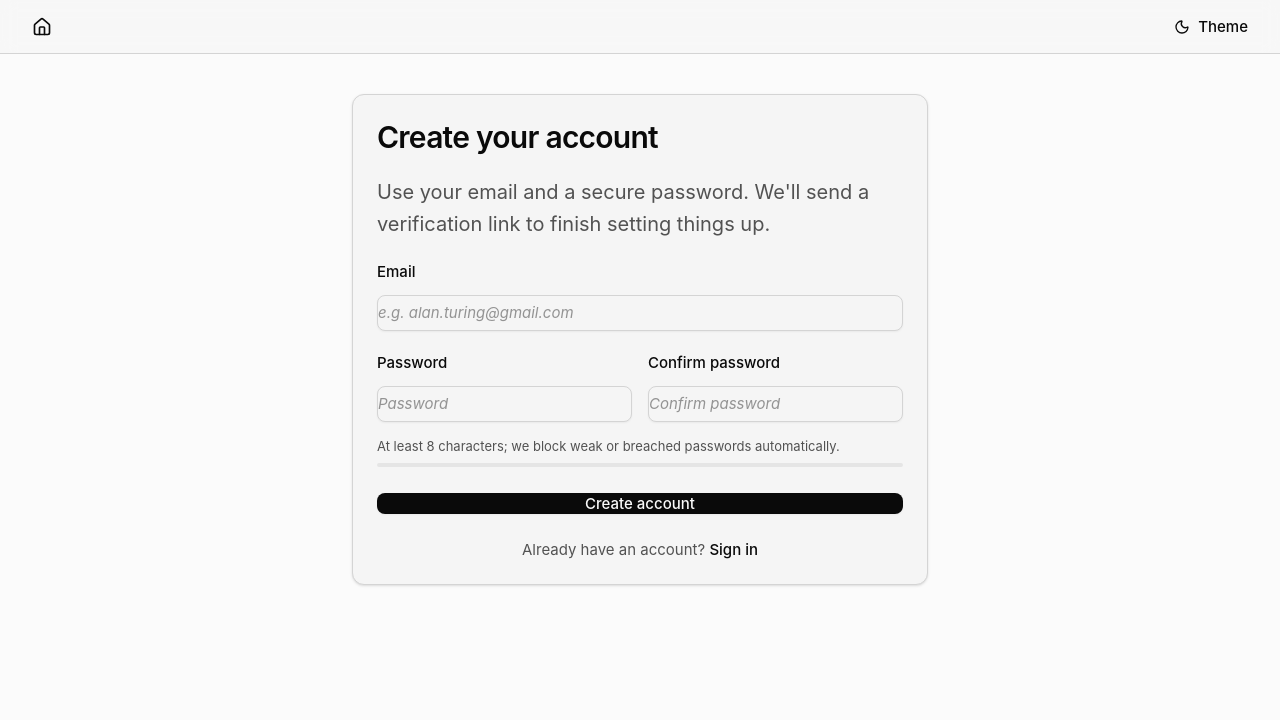
Test case: SignUp › prevents sign up with invalid email or short password
Type "not-an-email" into the field labelled "Email".
click(640, 313); type("not-an-email")  # box [377, 295, 903, 331]
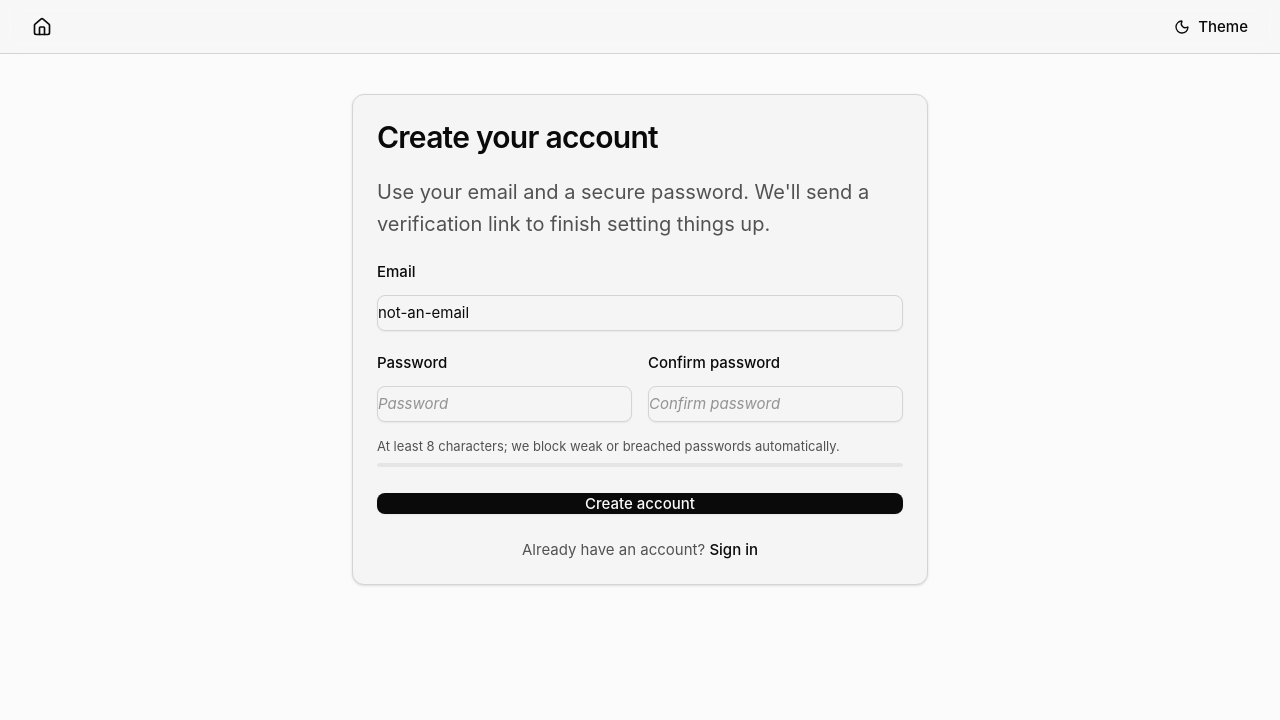
Type "short" into the password field labelled "Password".
click(504, 404); type("short")  # box [377, 386, 632, 422]
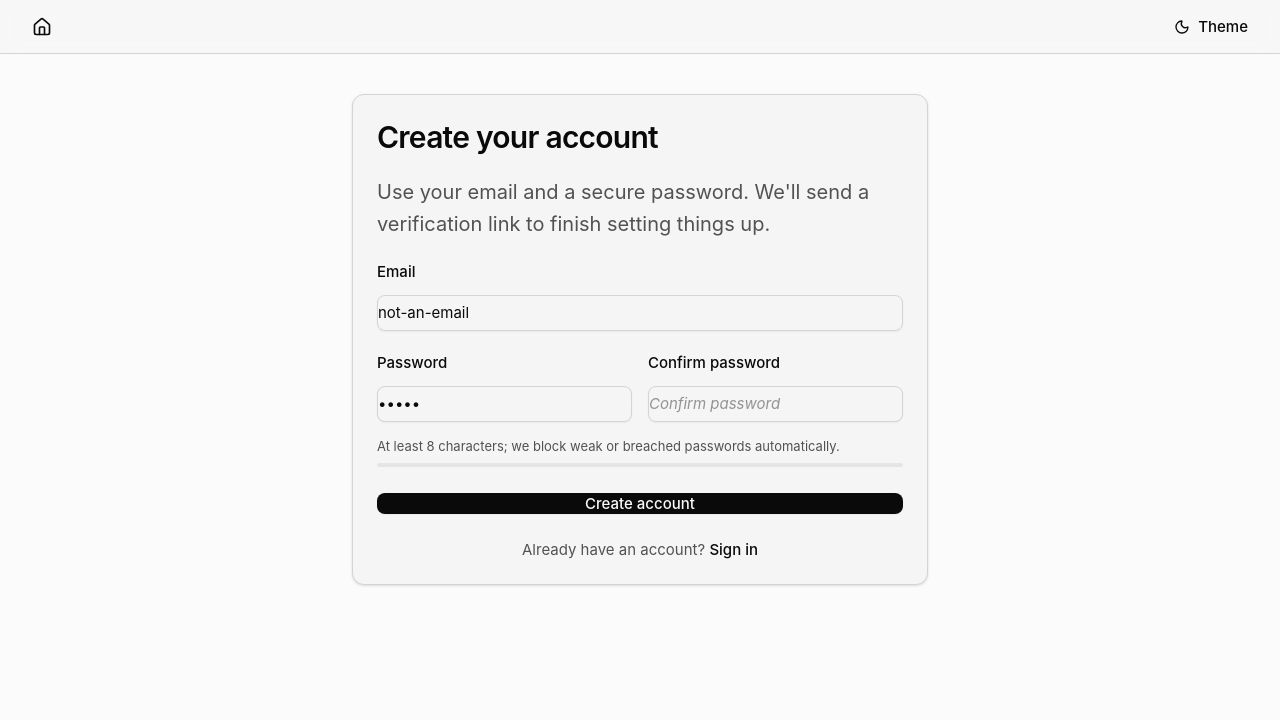
Type "short" into the password field labelled "Confirm password".
click(776, 404); type("short")  # box [648, 386, 903, 422]
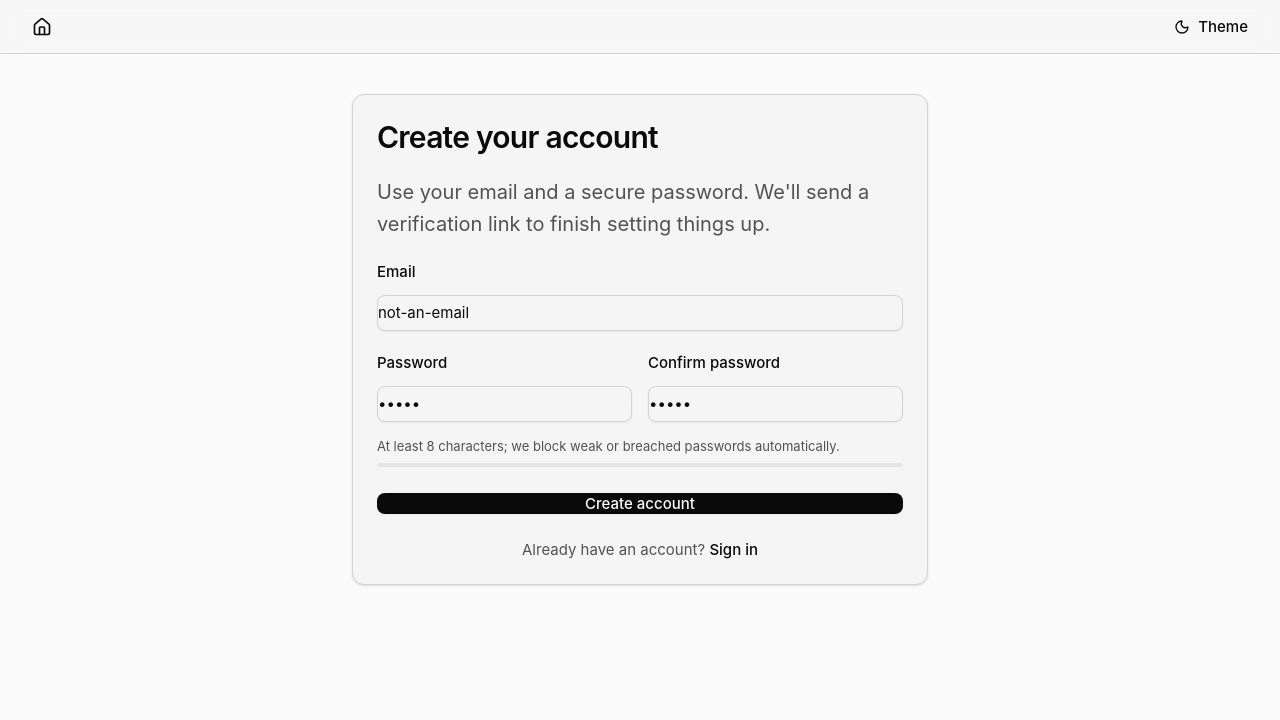
Click the button "Create account".
click(640, 504)  # box [377, 493, 903, 514]
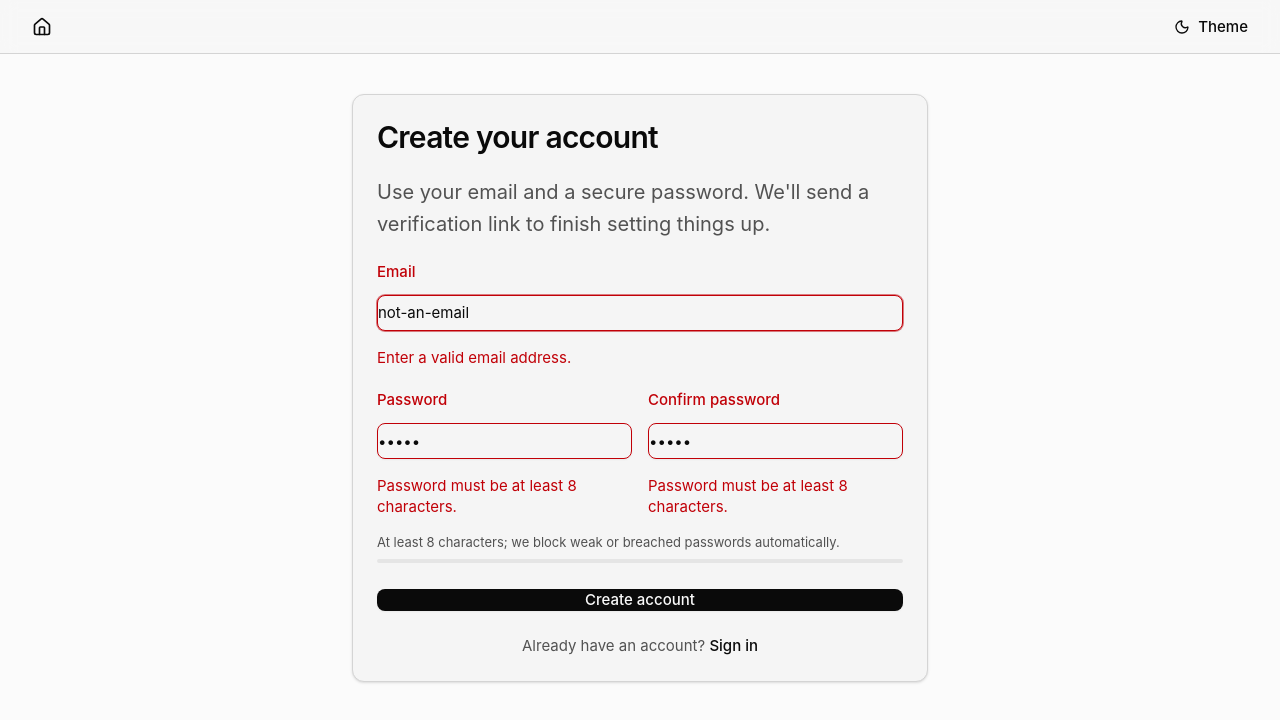
Result: the text "Enter a valid email address." is shown at [377, 348, 571, 367]
Result: the text "Password must be at least 8 characters." is shown 2 times at [377, 476, 577, 516]; [648, 476, 848, 516]
